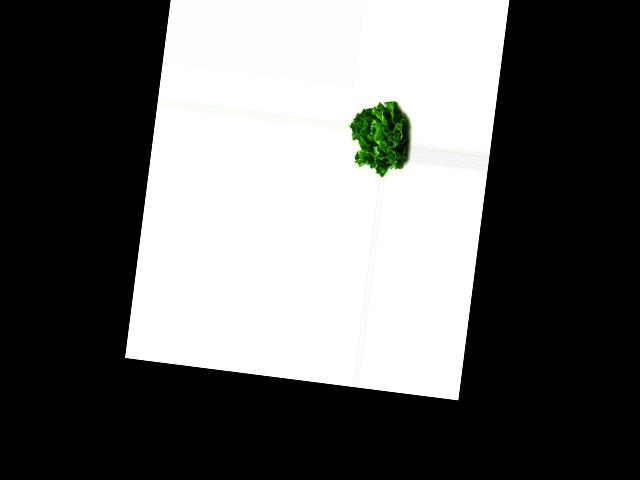lettuce: (344, 98, 415, 178)
